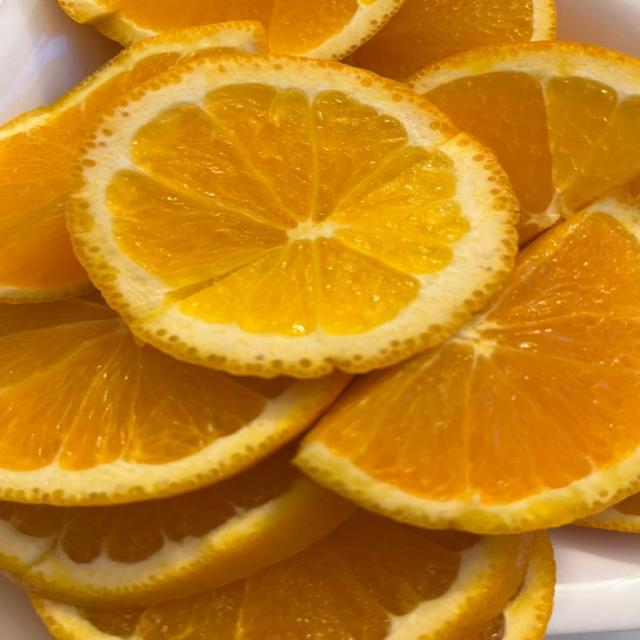orange: (68, 55, 517, 377), (297, 195, 639, 533), (0, 23, 266, 302), (0, 295, 348, 505), (33, 511, 533, 639), (0, 447, 354, 607), (410, 43, 639, 240), (60, 0, 404, 58), (347, 0, 555, 79), (474, 532, 555, 639), (575, 494, 639, 533)
